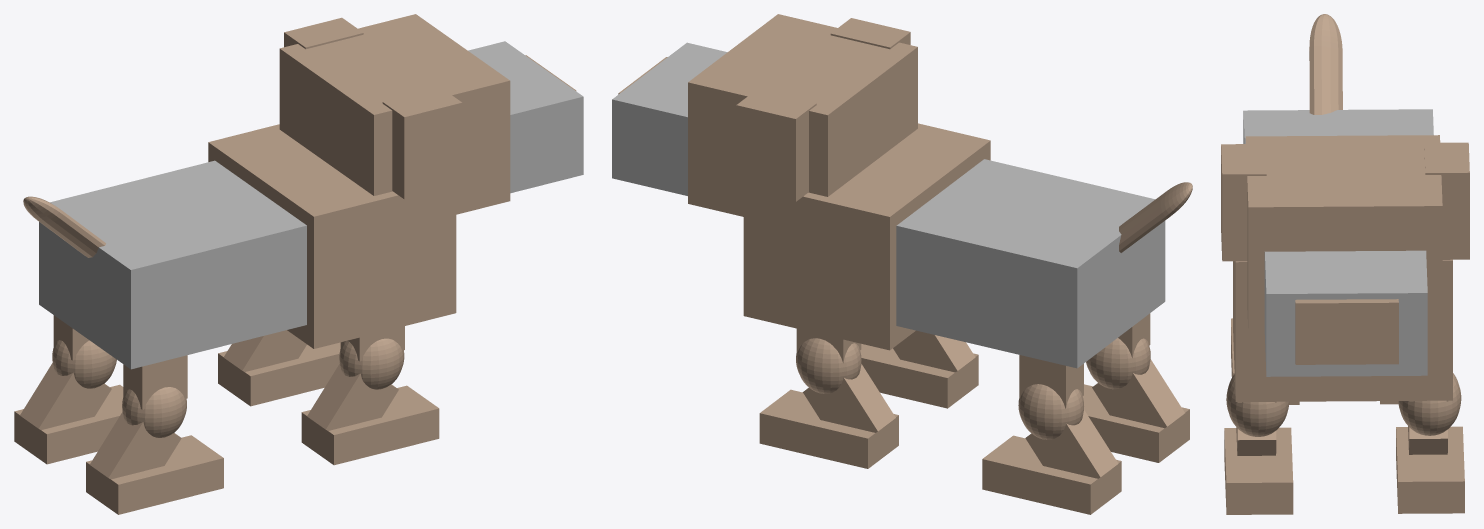
File: dog3.dae
The picture shows the model from 3 angles, left to right: view 1: azimuth 30°, elevation 25°; view 2: azimuth 150°, elevation 25°; view 3: azimuth 270°, elevation 25°; orthographic projection. The views are drawn at different scales.
Visible parts, largest first — view 1: Box3; view 2: Box3; view 3: Box3.
Part boxes in pixels (<box>): Box3: <box>14,14,583,514</box>; Box3: <box>612,14,1192,514</box>; Box3: <box>1221,14,1469,514</box>.
Bounding box in the file's own units: 6.96 × 2.64 × 4.12.
